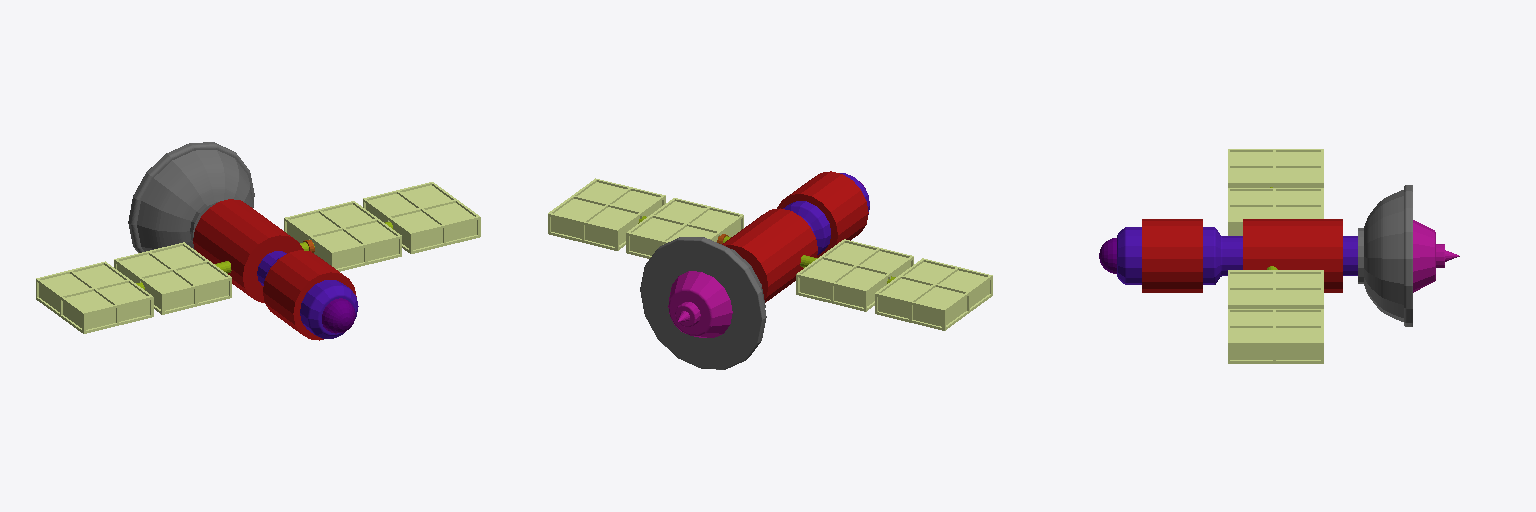
File: weixing.obj
3 views of the same model, side by side, from view 1: azimuth 30°, elevation 25°; view 2: azimuth 150°, elevation 25°; view 3: azimuth 270°, elevation 25° (orthographic).
Parts seen in each view (by area): view 1: Obj3d66_722246_1_423, Obj3d66_722246_5_973, Obj3d66_722246_11_736, Obj3d66_722246_2_185, Obj3d66_722246_3_840, Obj3d66_722246_4_633, Obj3d66_722246_7_168; view 2: Obj3d66_722246_1_423, Obj3d66_722246_5_973, Obj3d66_722246_11_736, Obj3d66_722246_2_185, Obj3d66_722246_6_424, Obj3d66_722246_3_840, Obj3d66_722246_4_633; view 3: Obj3d66_722246_1_423, Obj3d66_722246_5_973, Obj3d66_722246_2_185, Obj3d66_722246_11_736, Obj3d66_722246_3_840, Obj3d66_722246_4_633, Obj3d66_722246_6_424.
Boxes of the visible parts, x1,y1,x2,y2 form: Obj3d66_722246_1_423: [39, 185, 476, 329]; Obj3d66_722246_5_973: [128, 142, 254, 252]; Obj3d66_722246_11_736: [36, 182, 480, 333]; Obj3d66_722246_2_185: [193, 199, 303, 302]; Obj3d66_722246_3_840: [263, 250, 356, 340]; Obj3d66_722246_4_633: [257, 251, 358, 338]; Obj3d66_722246_7_168: [322, 298, 355, 333]; Obj3d66_722246_1_423: [551, 182, 989, 326]; Obj3d66_722246_5_973: [640, 237, 766, 369]; Obj3d66_722246_11_736: [548, 178, 992, 330]; Obj3d66_722246_2_185: [722, 208, 817, 302]; Obj3d66_722246_6_424: [668, 271, 732, 337]; Obj3d66_722246_3_840: [777, 171, 868, 257]; Obj3d66_722246_4_633: [783, 173, 869, 254]; Obj3d66_722246_1_423: [1230, 152, 1320, 359]; Obj3d66_722246_5_973: [1358, 185, 1412, 326]; Obj3d66_722246_2_185: [1243, 219, 1342, 292]; Obj3d66_722246_11_736: [1228, 149, 1323, 363]; Obj3d66_722246_3_840: [1142, 219, 1202, 292]; Obj3d66_722246_4_633: [1117, 227, 1357, 284]; Obj3d66_722246_6_424: [1413, 220, 1459, 292].
Size of the model in its own units: 2998 by 934 by 2365.